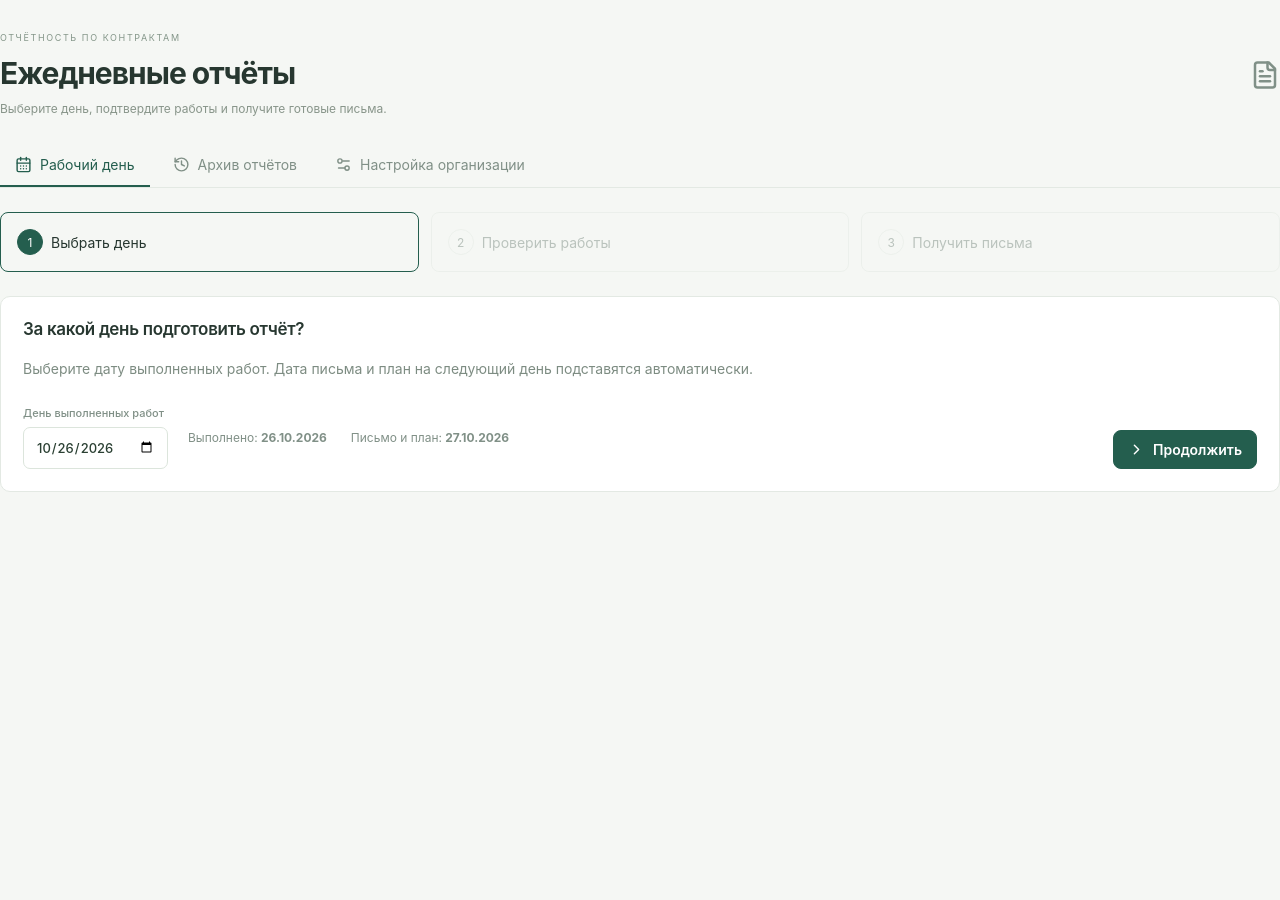
Test: shows photo evidence without filling work quantities or approving the day
Click the button "Продолжить": (1185, 450) [1113, 430, 1257, 469]
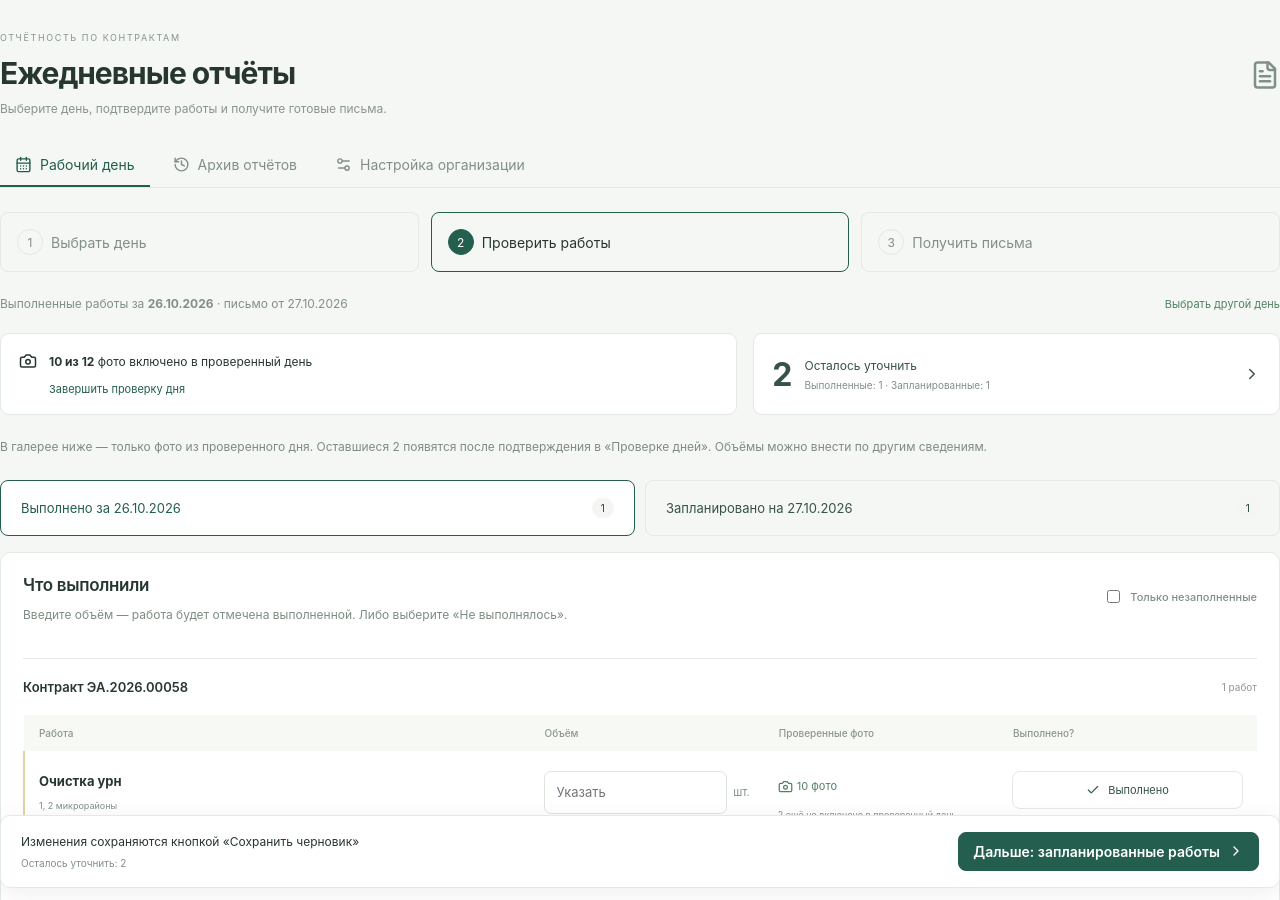
Now the text "10 фото" is shown, box [778, 771, 837, 801]
Now the number field named "Выполнено: Очистка урн — ЭА.2026.00058" is empty, box [544, 771, 727, 814]
Now the button with aria-label "Осталось проверить: 2" is shown, box [753, 333, 1279, 415]
